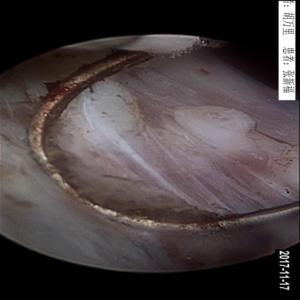film: (85, 75, 288, 209)
